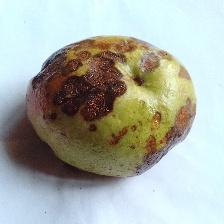guava: (40, 11, 175, 189)
